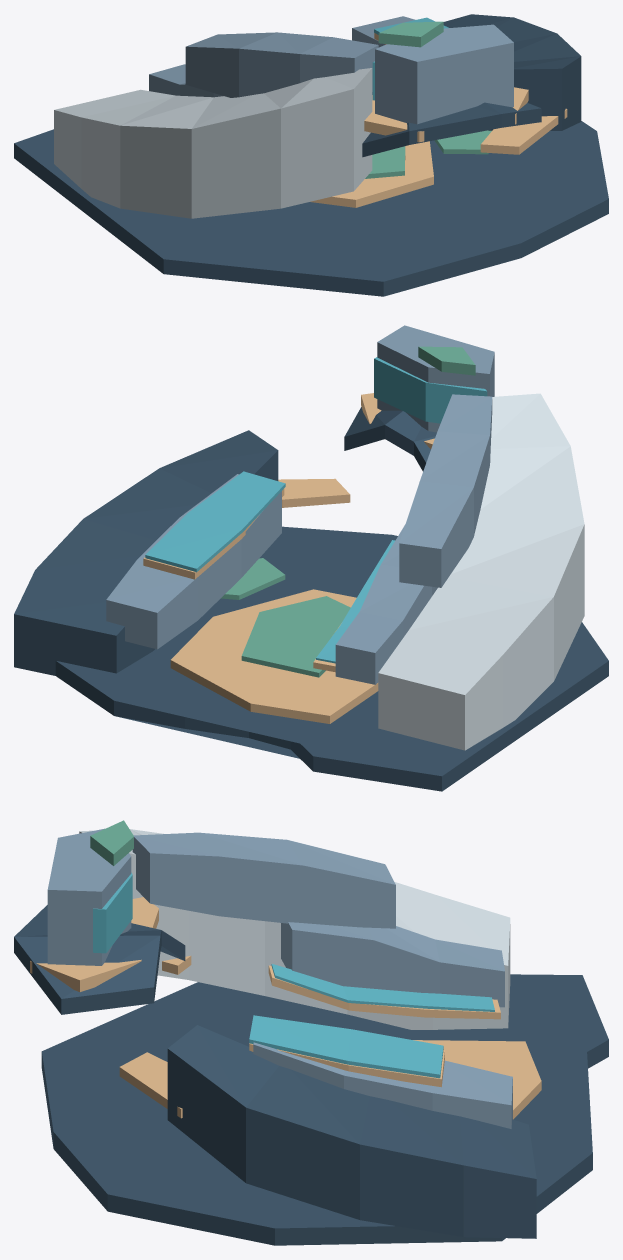
Rendered from a33_open_city_section.obj.
The picture shows the model from 3 angles, top to bottom: view 1: azimuth 30°, elevation 25°; view 2: azimuth 150°, elevation 25°; view 3: azimuth 270°, elevation 25°; orthographic projection. The views are drawn at different scales.
Size of the model in its own units: 415 by 200 by 406.
